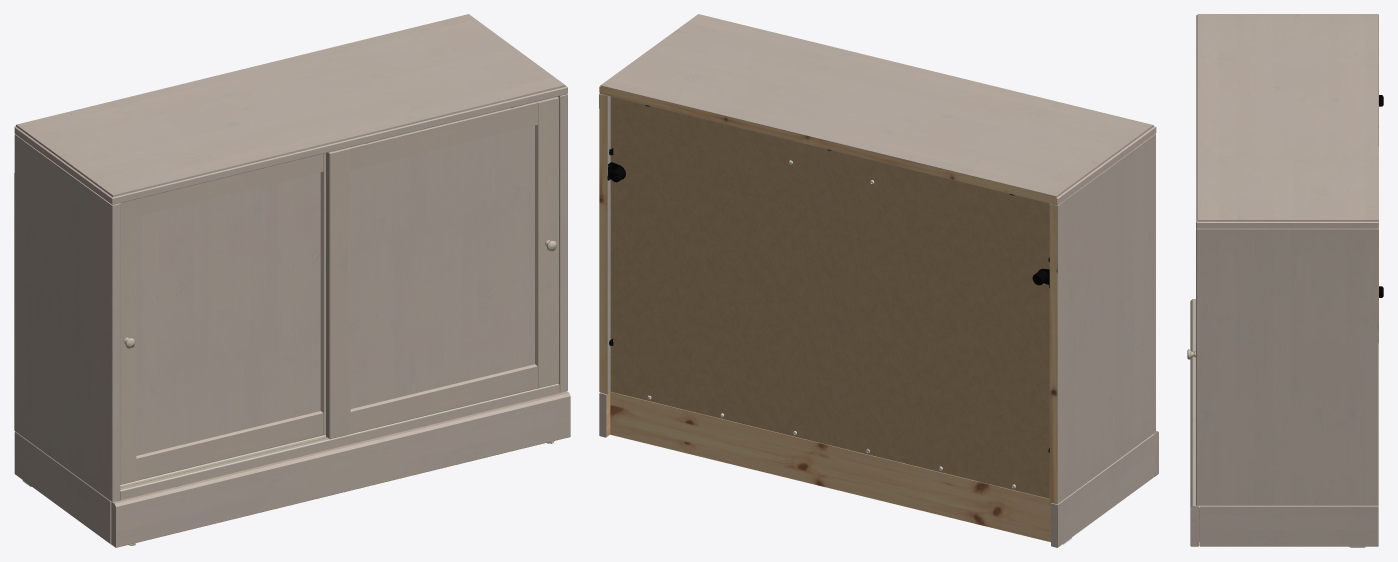
Rendered from havsta_kredens_30529231.glb.
The picture shows the model from 3 angles, left to right: view 1: azimuth 30°, elevation 25°; view 2: azimuth 150°, elevation 25°; view 3: azimuth 270°, elevation 25°; orthographic projection. The views are drawn at different scales.
Visible parts, largest first — view 1: havsta_kredens_30529231; view 2: havsta_kredens_30529231; view 3: havsta_kredens_30529231.
Part boxes in pixels (box(x1,y1,x2,y2)): havsta_kredens_30529231: box(14, 14, 570, 547); havsta_kredens_30529231: box(599, 14, 1158, 547); havsta_kredens_30529231: box(1187, 14, 1383, 547).
Bounding box in the file's own units: 1.21 × 0.891 × 0.4835.
Materials: 5 (5 with a texture image).
